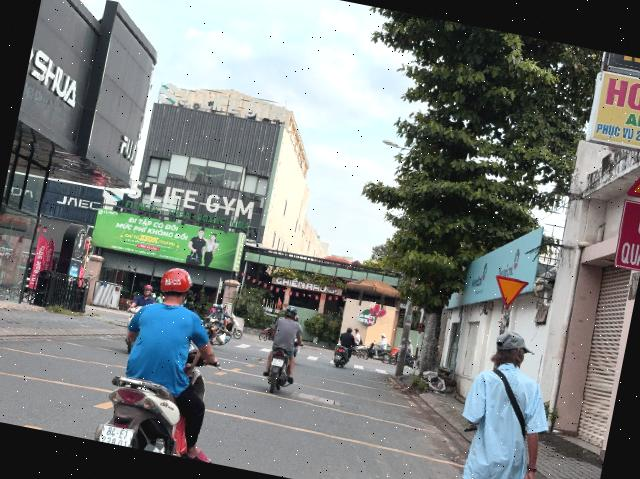giao-nhau-voi-duong-uu-tien: (490, 274, 530, 310)
